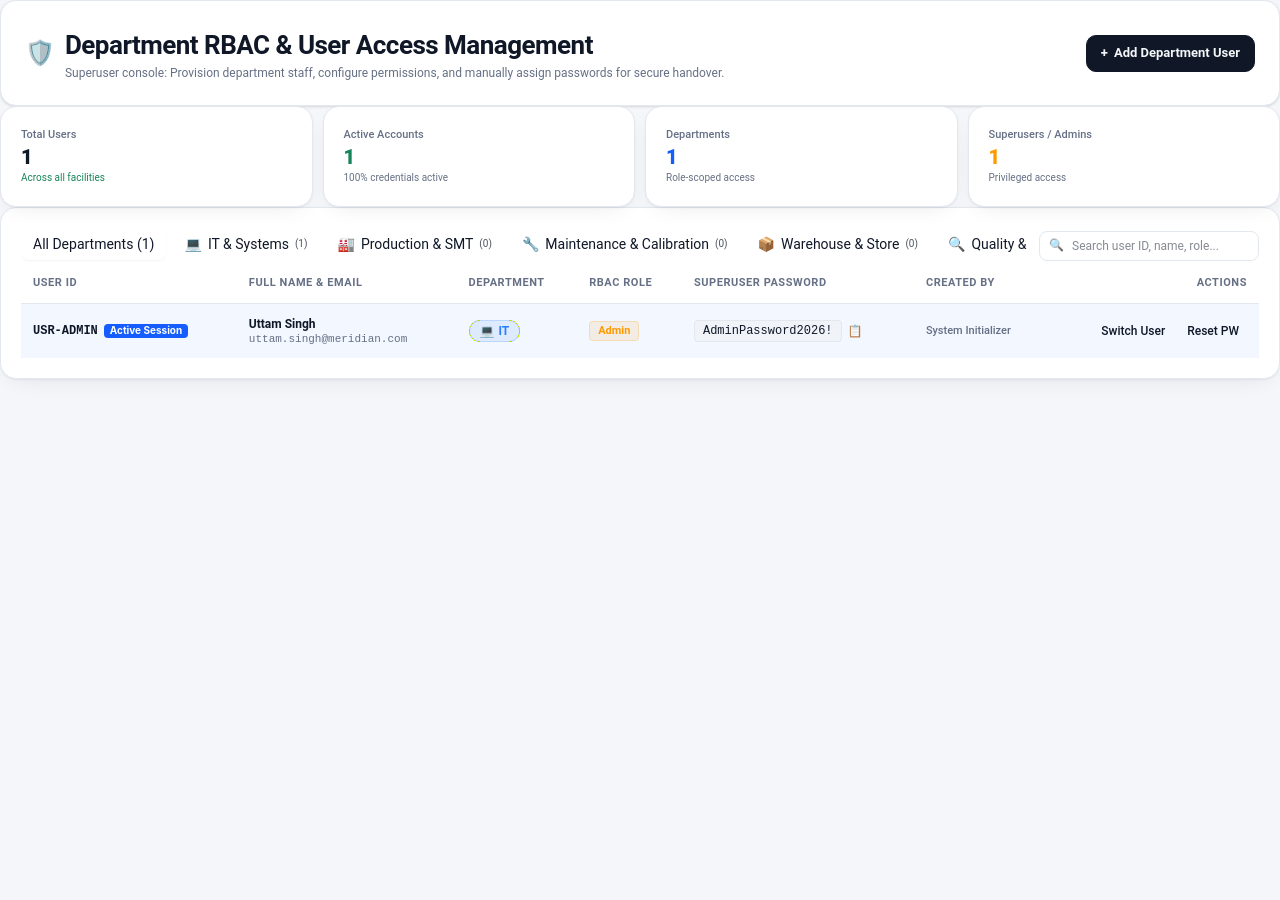
Test case: Department RBAC & User Management Specification › Superuser can manually reset password for an existing department user
Note: Click Reset PW for first user
Click the button "Reset PW" at (1213,331), box [1179,319,1247,343]
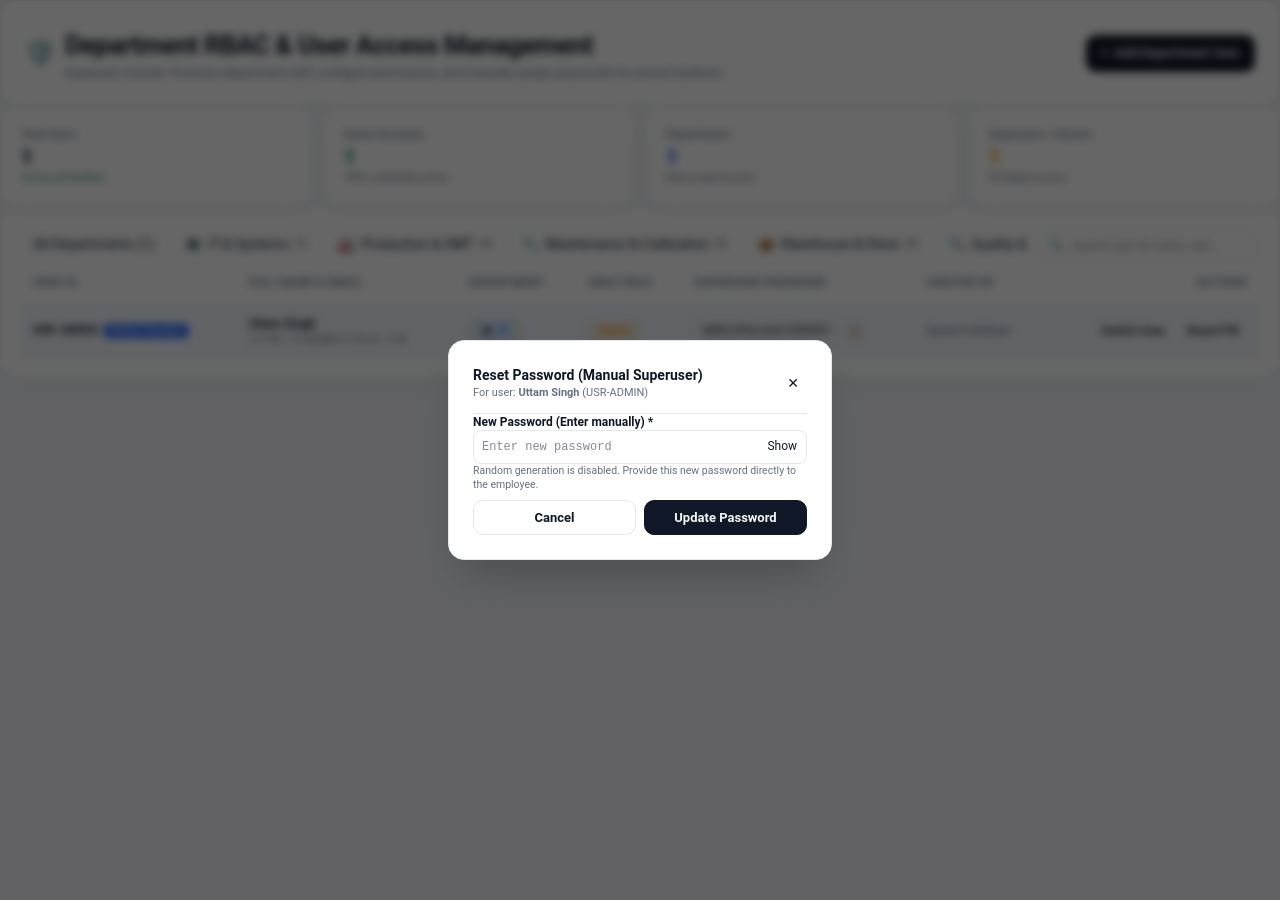
Result: the heading "Reset Password (Manual Superuser)" is shown at [473,365,703,385]
Note: Enter manual password
Type "BrandNewManualPass#2026" into the password field with placeholder "Enter new password" at (640,447), box [473,430,807,464]
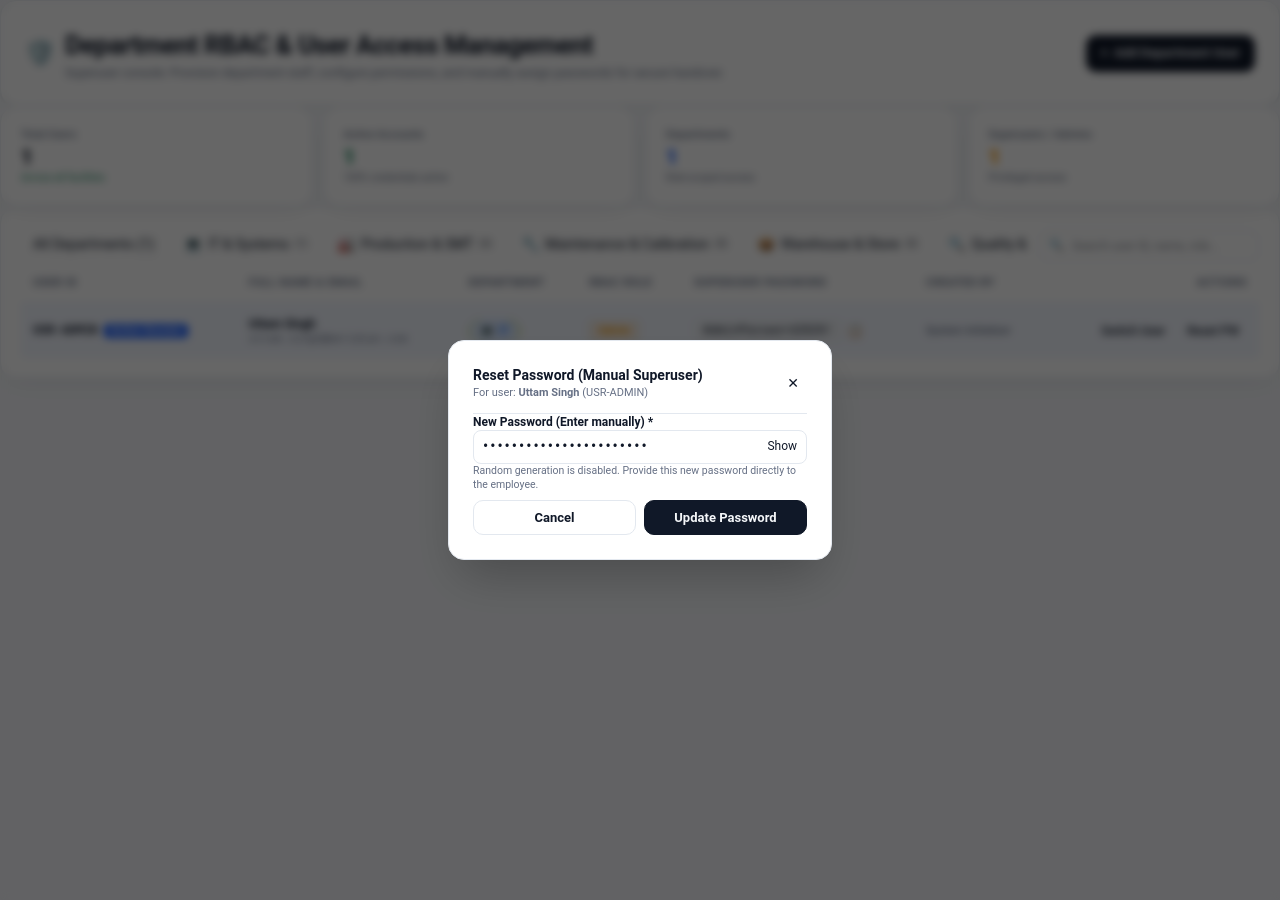
Click the button "Update Password" at (726,517), box [644,500,807,535]
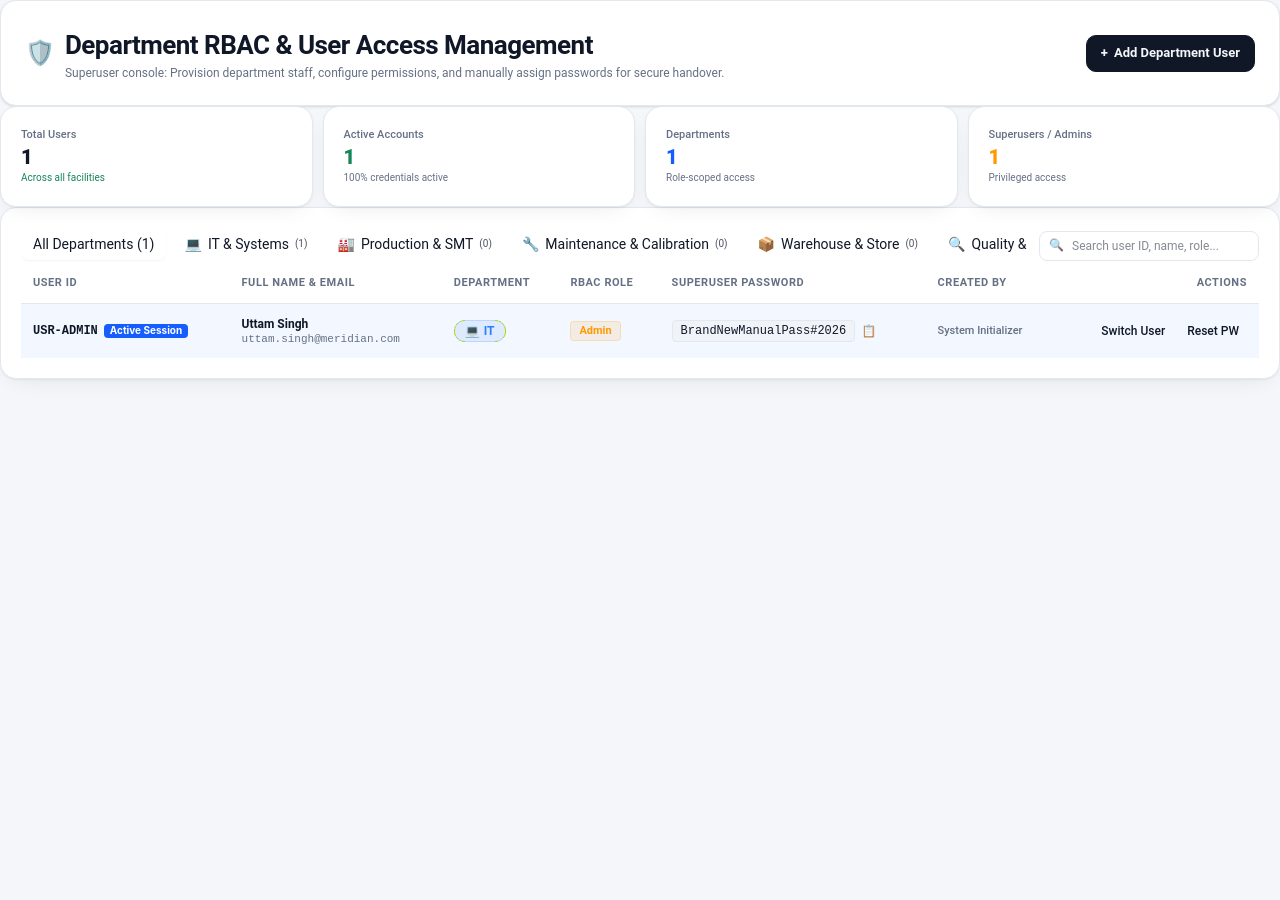
Result: the text "BrandNewManualPass#2026" is shown at [672,320,855,342]
